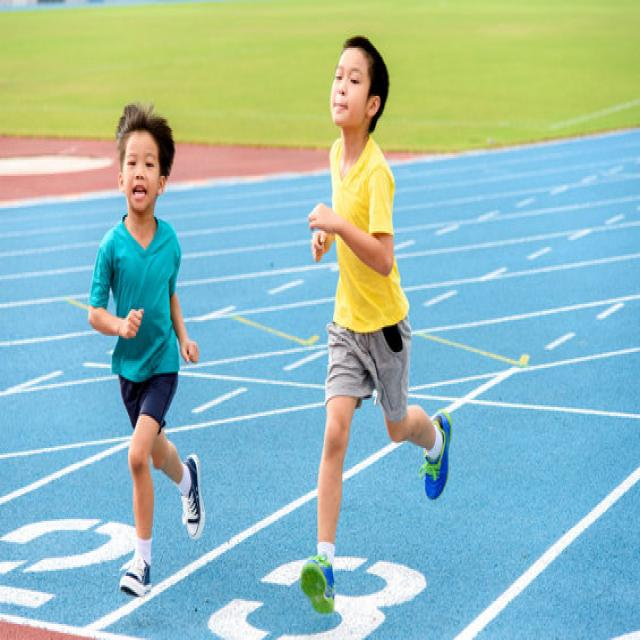Person: (301, 36, 451, 614), (88, 104, 205, 595)
